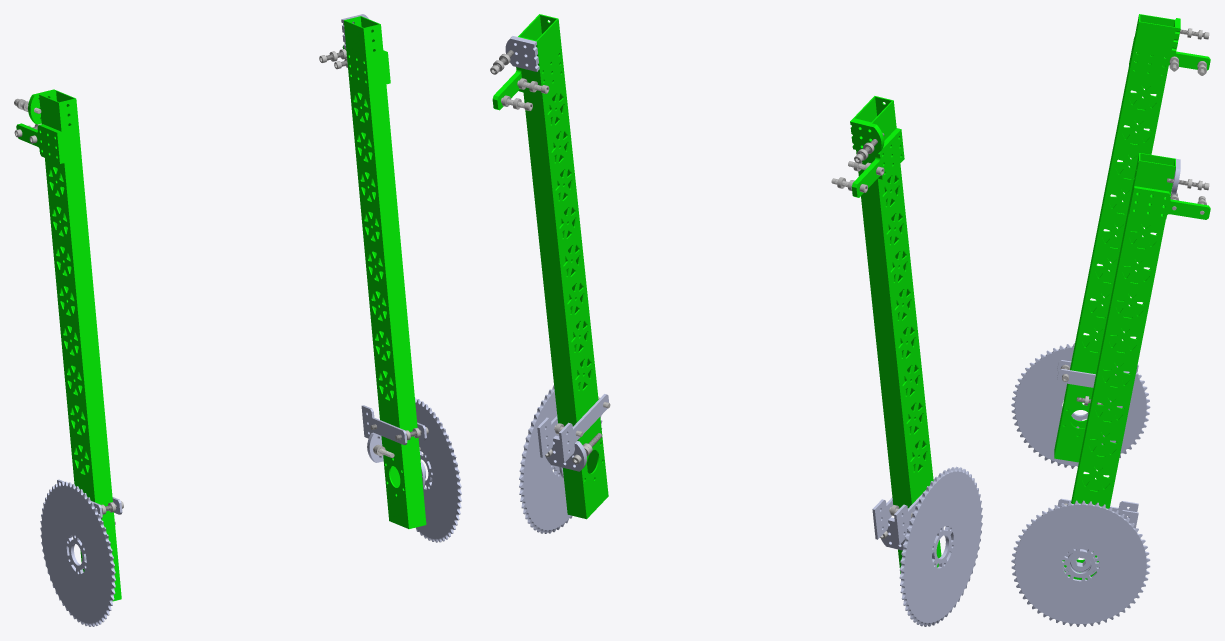
3 renders of one model, left to right at view 1: azimuth 30°, elevation 25°; view 2: azimuth 150°, elevation 25°; view 3: azimuth 270°, elevation 25°, orthographic. The views are drawn at different scales.
Parts seen in each view (by area): view 1: NAUO31, NAUO3, NAUO30, NAUO58, NAUO4, NAUO51; view 2: NAUO31, NAUO3, NAUO30, NAUO58, NAUO4, NAUO51, NAUO33, NAUO5, NAUO42; view 3: NAUO3, NAUO31, NAUO58, NAUO30, NAUO32, NAUO22, NAUO4, NAUO59, NAUO51.
Boxes of the visible parts, x1,y1,x2,y2 form: NAUO31: [343, 16, 426, 528]; NAUO3: [39, 90, 121, 601]; NAUO30: [40, 481, 115, 626]; NAUO58: [415, 397, 461, 542]; NAUO4: [16, 123, 64, 163]; NAUO51: [361, 405, 407, 445]; NAUO31: [518, 14, 608, 519]; NAUO3: [853, 96, 941, 573]; NAUO30: [899, 466, 982, 626]; NAUO58: [519, 385, 602, 533]; NAUO4: [851, 128, 904, 197]; NAUO51: [559, 394, 608, 462]; NAUO33: [505, 36, 539, 71]; NAUO5: [850, 119, 884, 154]; NAUO42: [545, 435, 586, 471]; NAUO3: [1054, 14, 1175, 462]; NAUO31: [1062, 153, 1175, 579]; NAUO58: [1011, 500, 1150, 626]; NAUO30: [1011, 343, 1150, 468]; NAUO32: [1129, 186, 1210, 220]; NAUO22: [1057, 369, 1138, 401]; NAUO4: [1129, 37, 1210, 70]; NAUO59: [1062, 547, 1098, 577]; NAUO51: [1057, 498, 1138, 517].
Bounding box in the file's own units: 0.508 × 0.686 × 0.2688.
